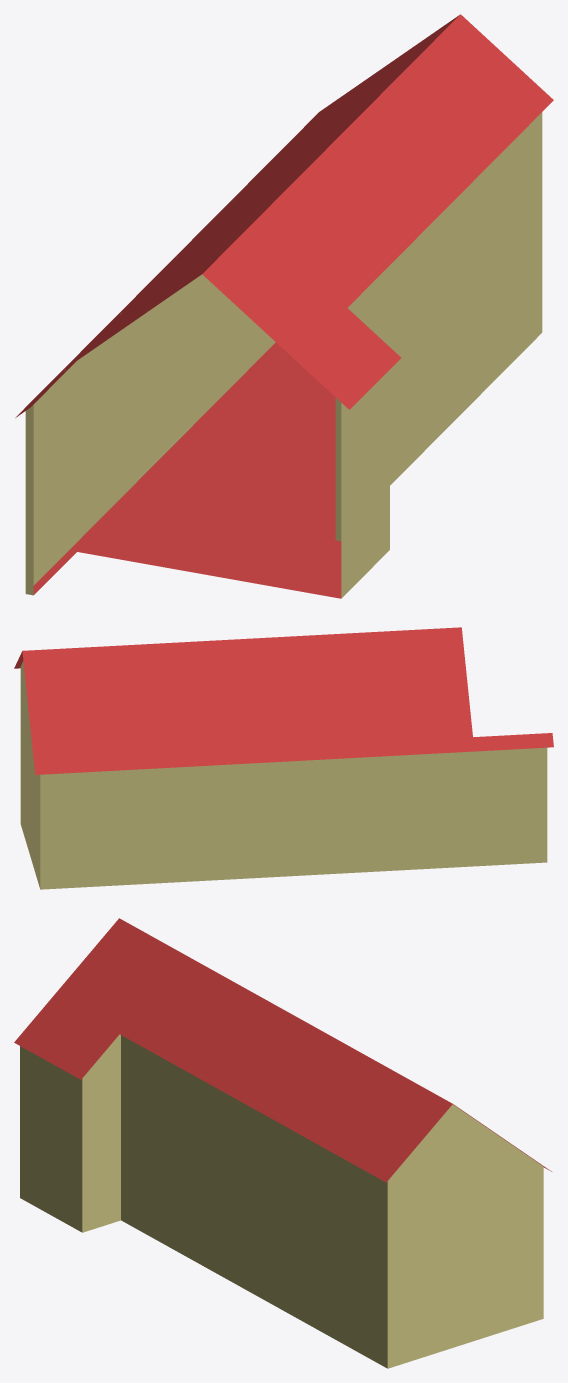
3 renders of one model, top to bottom at view 1: azimuth 30°, elevation 25°; view 2: azimuth 150°, elevation 25°; view 3: azimuth 270°, elevation 25°, orthographic. The views are drawn at different scales.
Bounding box in the file's own units: 22 × 18.38 × 9.31.
